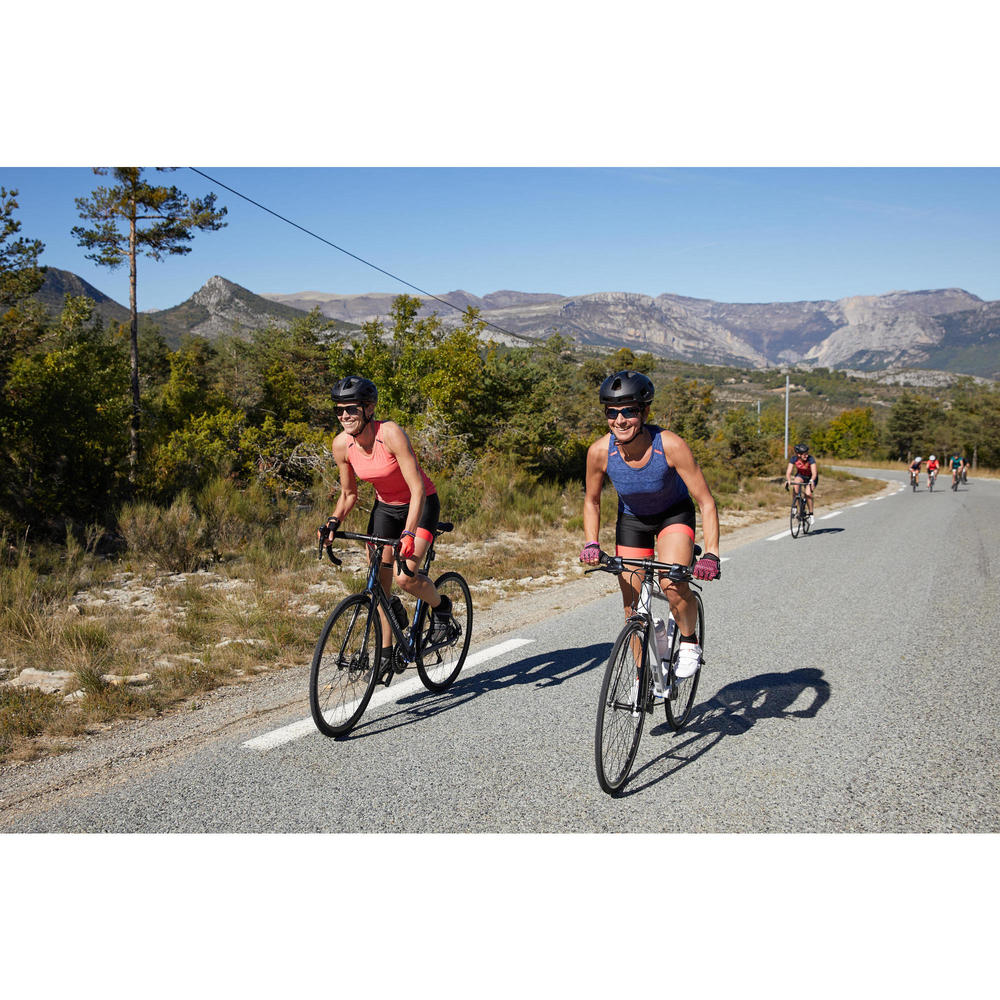RoadBike: (305, 508, 481, 742), (594, 548, 727, 793), (778, 471, 829, 548)
